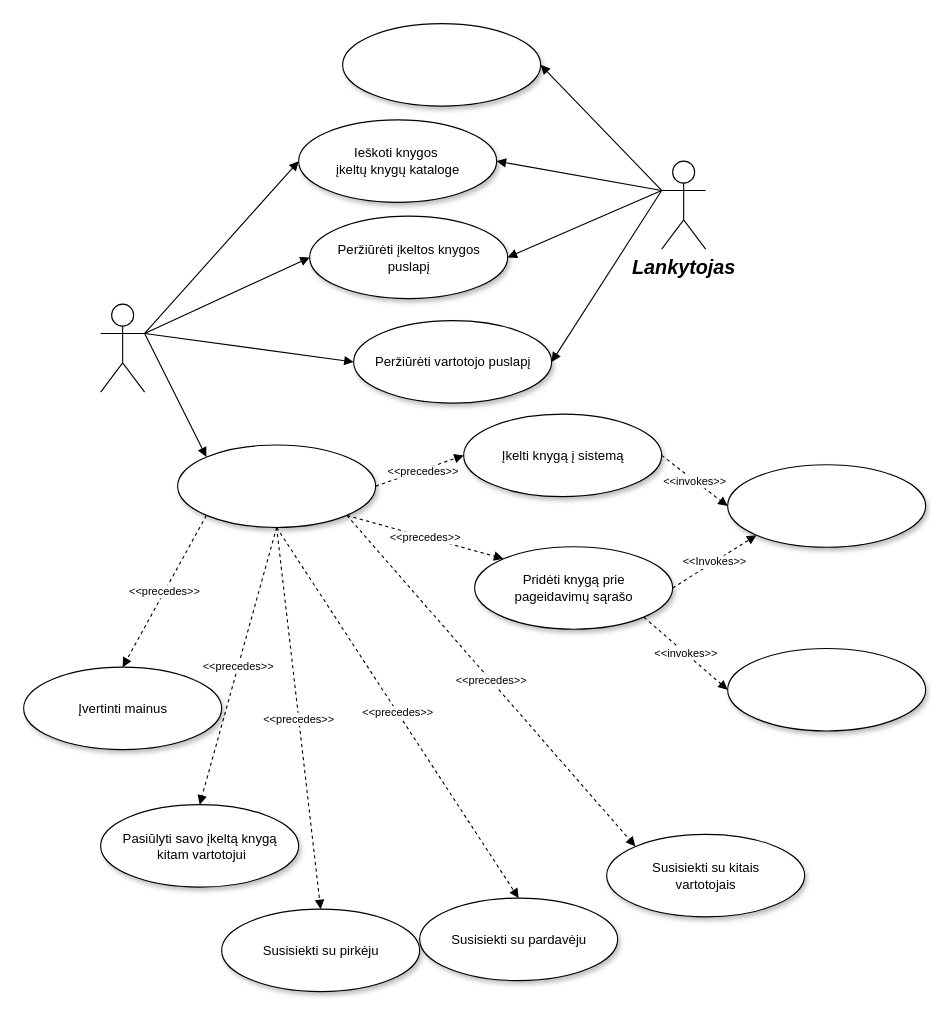
The diagram is 952 pixels wide and 1019 high, and some of its shapes have lost their labels. The centre of each missing label's shape, as x and y in pixels:
Ieškoti knygos knygų duomenų bazėje: the point at 827,507
Pridėti pasirinktą knygą prie pageidavimų sąrašo: the point at 827,691
Prisijungti: the point at 277,487
Užsiregistruoti: the point at 442,66
Vartotojas: the point at 122,347
